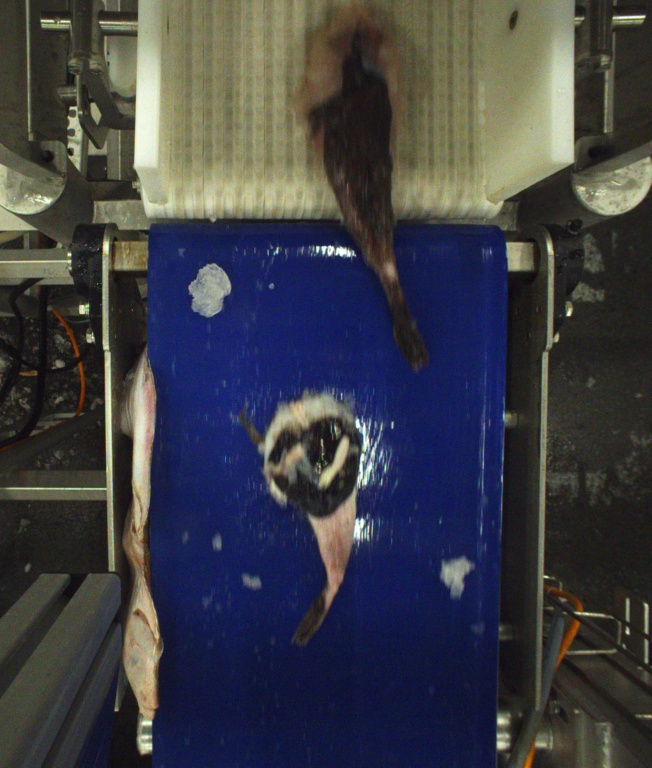ANF: (265, 391, 362, 643)
